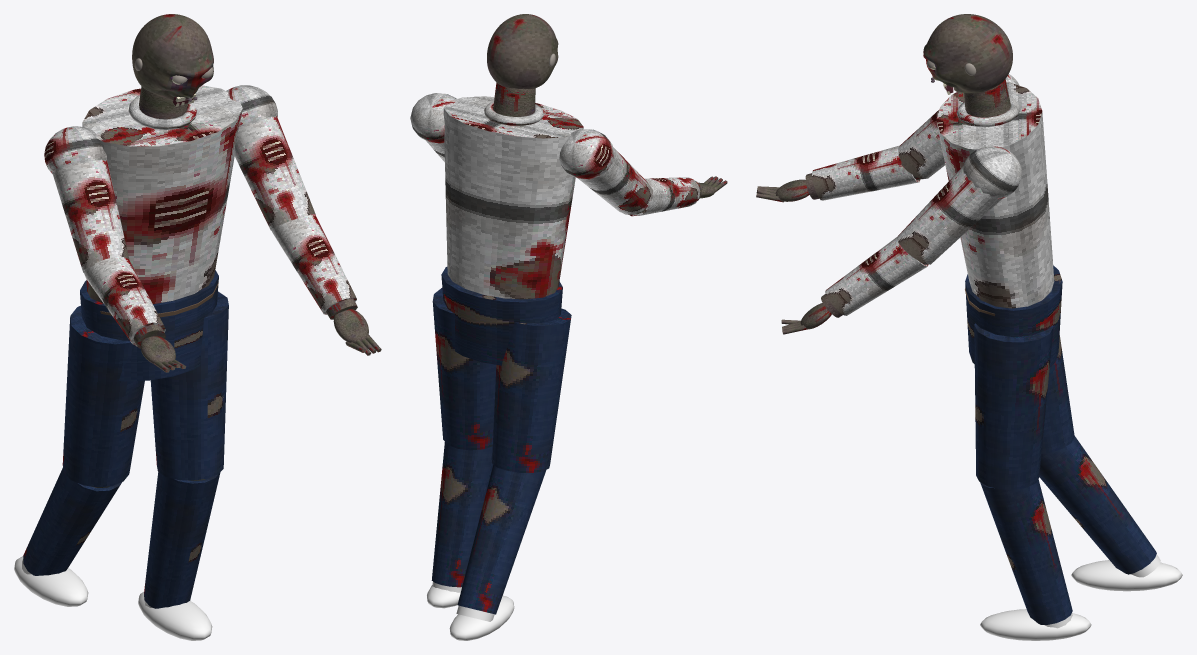
Rendered from Zombie_090.glb.
The picture shows the model from 3 angles, left to right: view 1: azimuth 30°, elevation 25°; view 2: azimuth 150°, elevation 25°; view 3: azimuth 270°, elevation 25°; orthographic projection. The views are drawn at different scales.
Parts seen in each view (by area): view 1: Zombie_090, object 18, object 12, object 4, object 13, object 5; view 2: Zombie_090, object 18, object 4; view 3: Zombie_090, object 18, object 12, object 4.
Part boxes in pixels (<box>): Zombie_090: <box>14,85,315,640</box>; object 18: <box>132,14,213,100</box>; object 12: <box>271,214,356,314</box>; object 4: <box>84,257,165,346</box>; object 13: <box>333,309,368,343</box>; object 5: <box>140,336,175,363</box>; Zombie_090: <box>410,82,653,640</box>; object 18: <box>487,14,558,88</box>; object 4: <box>628,177,700,216</box>; Zombie_090: <box>897,74,1182,640</box>; object 18: <box>923,14,1012,93</box>; object 12: <box>825,236,928,315</box>; object 4: <box>812,145,919,200</box>.
Size of the model in its own units: 0.6717 by 1.76 by 1.13.
15 materials, 5 textured.
